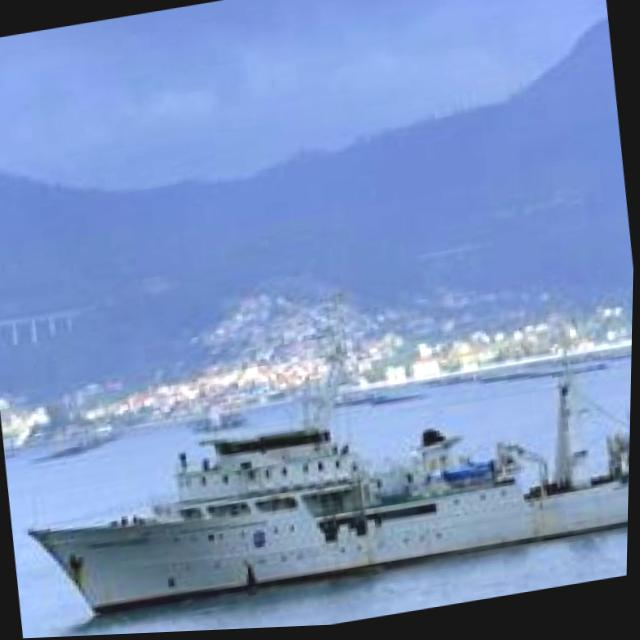ship2: (29, 382, 632, 618)
